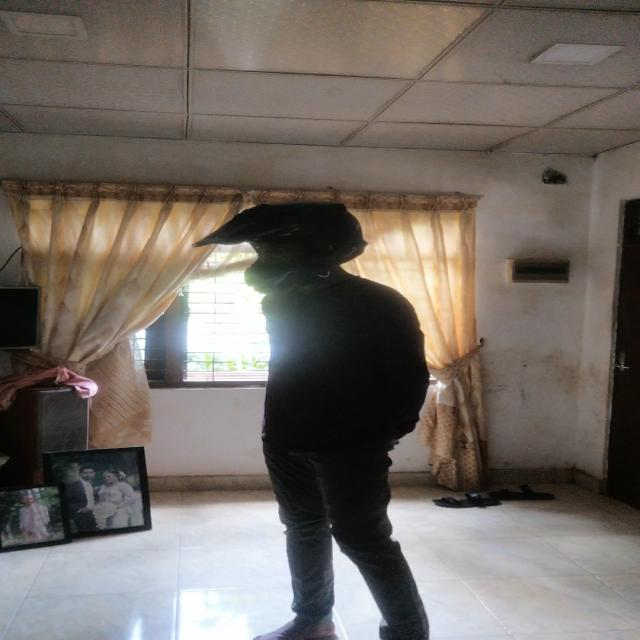Helmet_Wearer: (209, 196, 344, 282)
Person: (194, 199, 446, 640)
